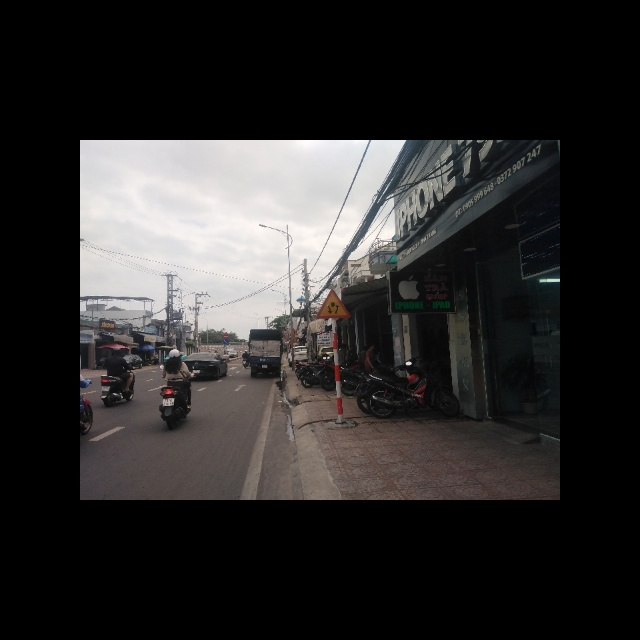Đường đôi: (314, 285, 349, 317)
